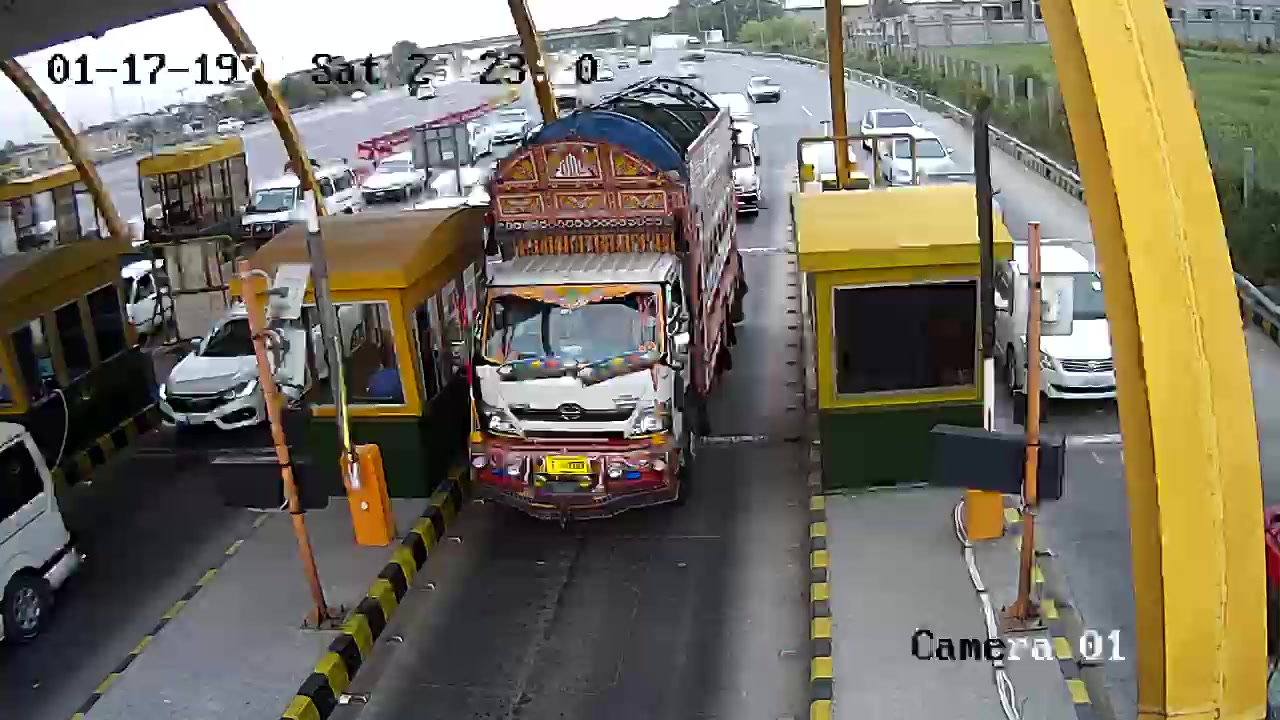F5: (453, 79, 752, 526)
